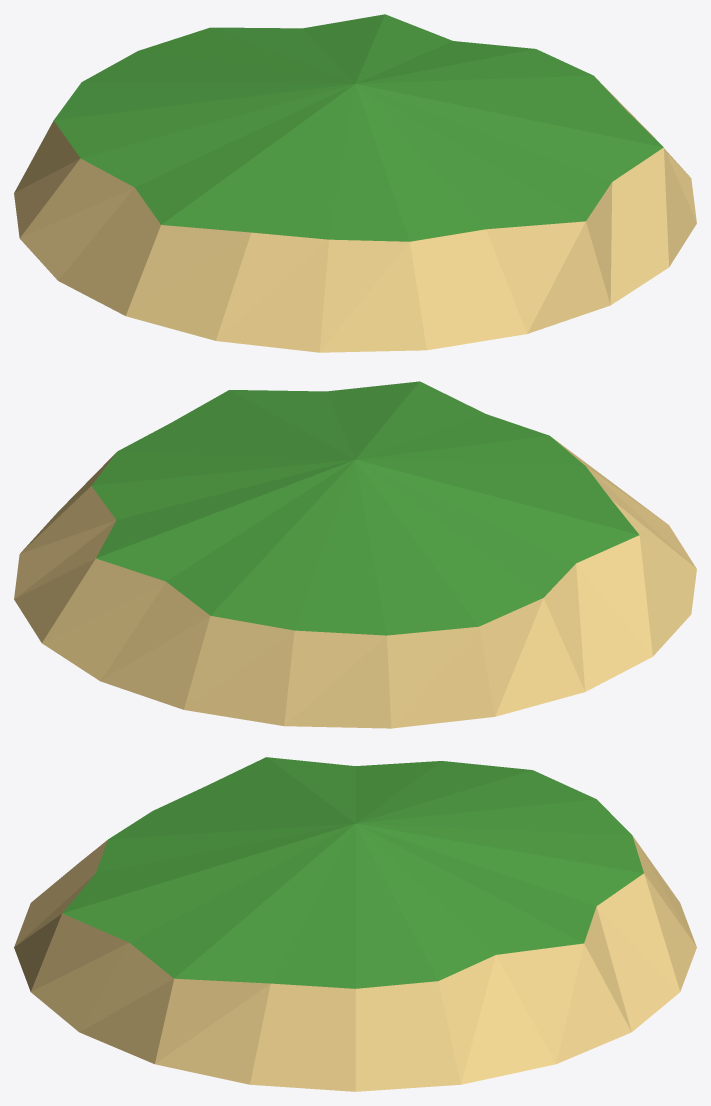
Rendered from island5.obj.
3 views of the same model, one above another, from view 1: azimuth 30°, elevation 25°; view 2: azimuth 150°, elevation 25°; view 3: azimuth 270°, elevation 25° (orthographic).
Bounding box in the file's own units: 15 × 3 × 15.
